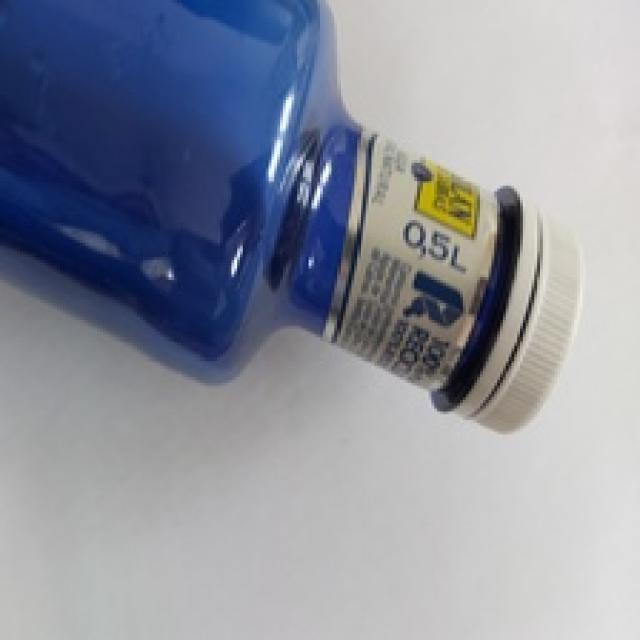Plastic: (0, 0, 586, 435)
